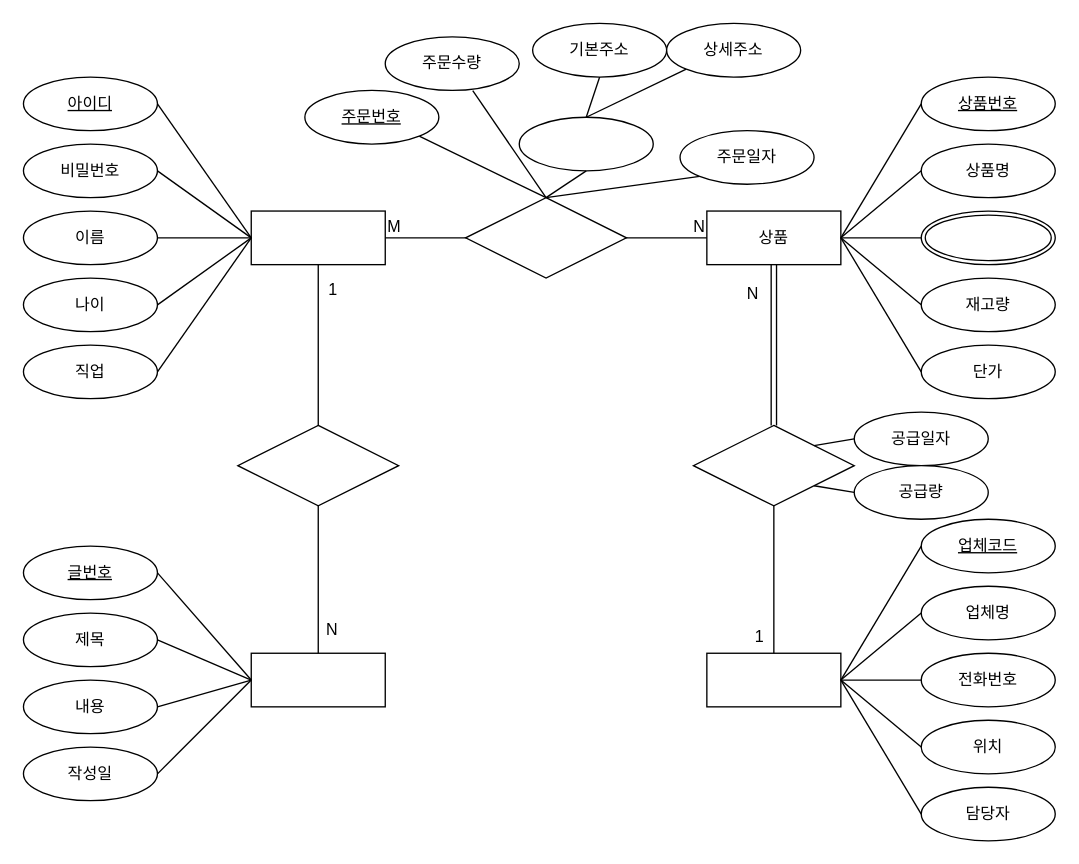
The diagram is 1079 pixels wide and 864 high, and some of its shapes have lost their labels. The centre of each missing label's shape, as x and y in pixels:
"게시글" belongs at pixel 317 679.
"공급" belongs at pixel 773 465.
"배송지" belongs at pixel 585 143.
"작성" belongs at pixel 318 465.
"제조업체" belongs at pixel 773 679.
"제품색상" belongs at pixel 987 237.
"주문" belongs at pixel 545 237.
"회원" belongs at pixel 317 237.
